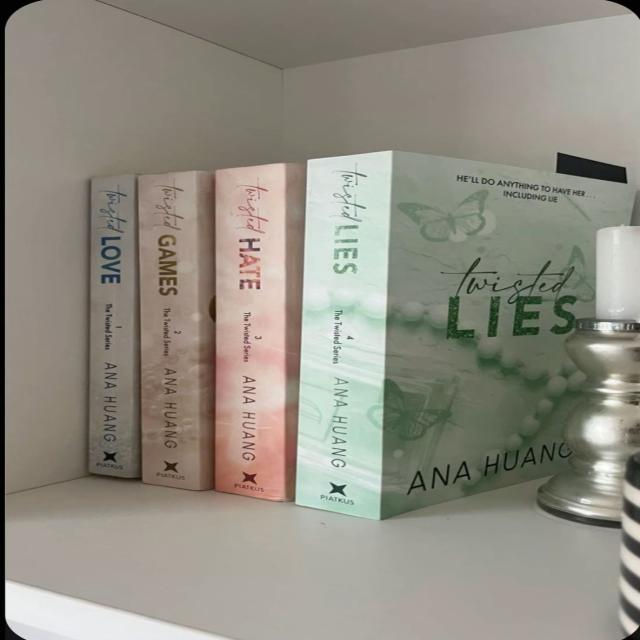book: (214, 163, 304, 501), (305, 158, 381, 508), (138, 171, 214, 490), (89, 175, 139, 478)
